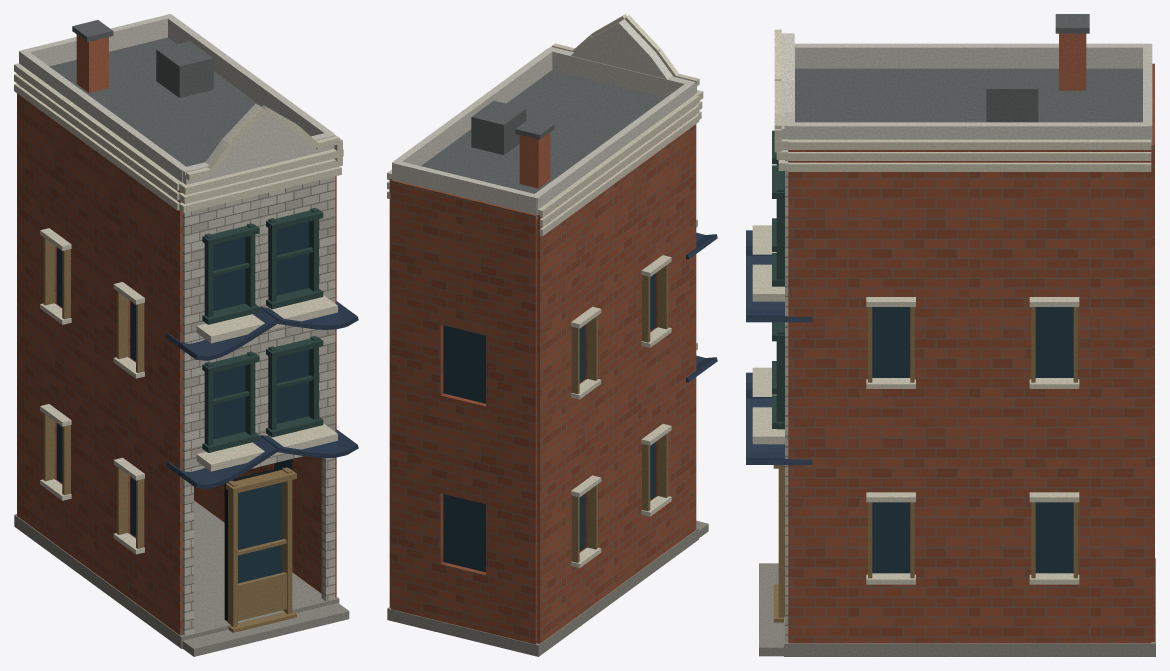
Rendered from CHINA16_lod2.glb.
3 renders of one model, left to right at view 1: azimuth 30°, elevation 25°; view 2: azimuth 150°, elevation 25°; view 3: azimuth 270°, elevation 25°, orthographic. The views are drawn at different scales.
Parts seen in each view (by area): view 1: CHINA16_LOD2; view 2: CHINA16_LOD2; view 3: CHINA16_LOD2.
Boxes of the visible parts, bbox=[...] form: CHINA16_LOD2: bbox=[14, 14, 358, 656]; CHINA16_LOD2: bbox=[387, 14, 717, 656]; CHINA16_LOD2: bbox=[746, 14, 1155, 656].
Bounding box in the file's own units: 3.71 × 10.65 × 6.78.
12 materials, 10 textured.
